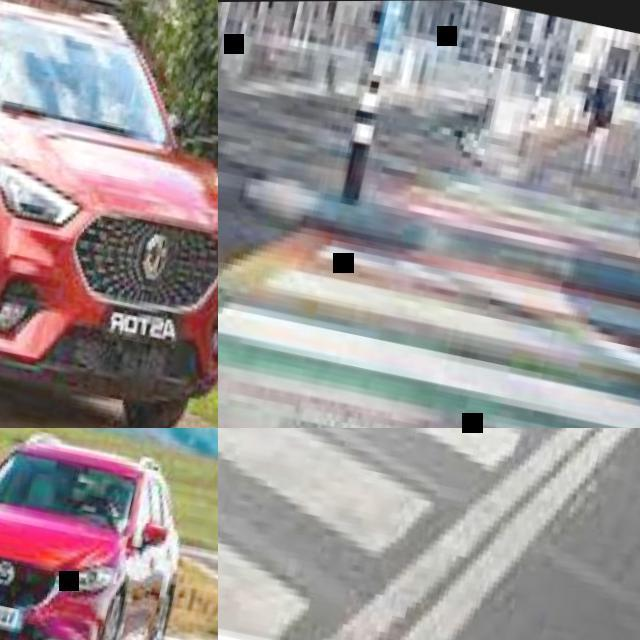car: (1, 440, 179, 639)
